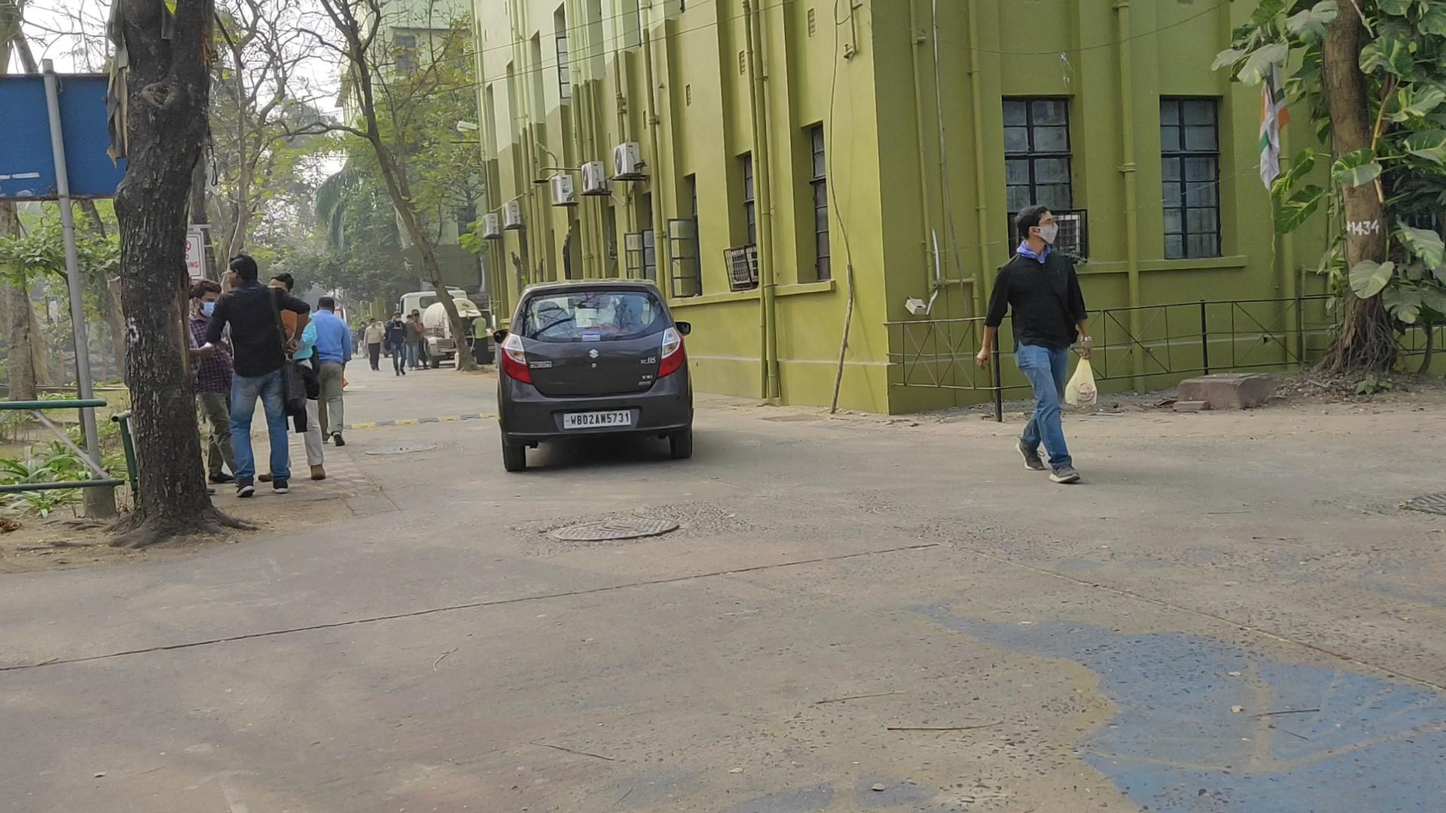car: (493, 279, 694, 473)
truck: (394, 290, 481, 369)
